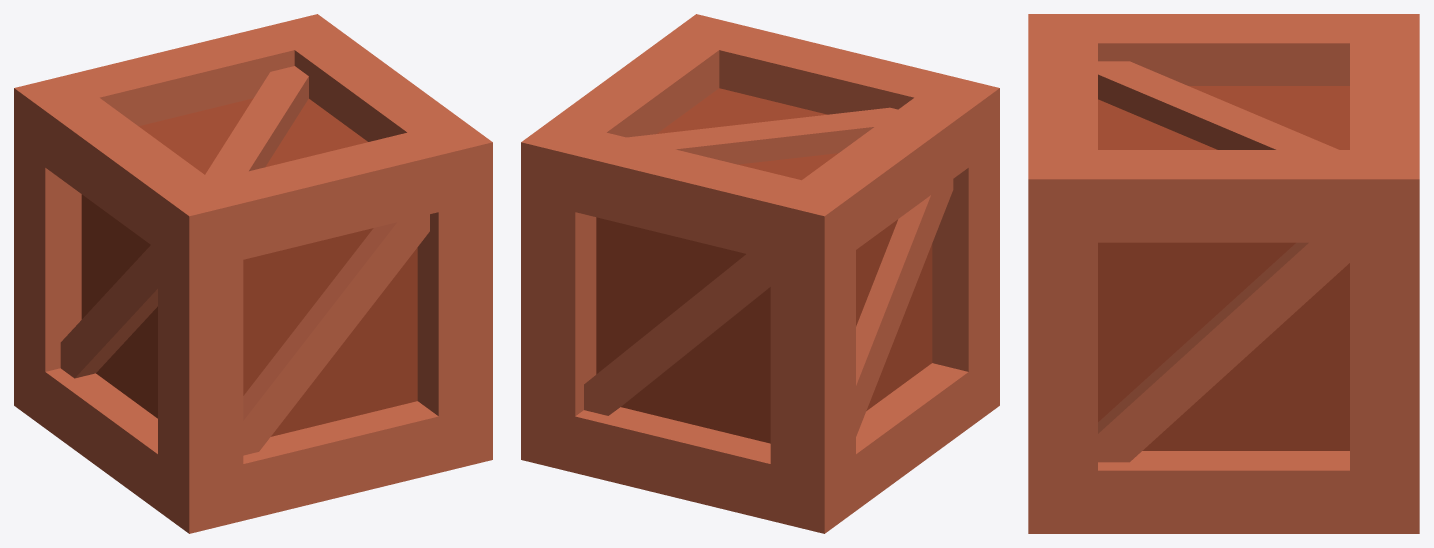
File: crate.glb
The picture shows the model from 3 angles, left to right: view 1: azimuth 30°, elevation 25°; view 2: azimuth 150°, elevation 25°; view 3: azimuth 270°, elevation 25°; orthographic projection. The views are drawn at different scales.
Parts seen in each view (by area): view 1: mergedBlocks(Clone); view 2: mergedBlocks(Clone); view 3: mergedBlocks(Clone).
Part boxes in pixels (x1=…): mergedBlocks(Clone): x1=14, y1=14, x2=492, y2=533; mergedBlocks(Clone): x1=521, y1=14, x2=999, y2=533; mergedBlocks(Clone): x1=1028, y1=14, x2=1419, y2=533.
Bounding box in the file's own units: 2.7 × 2.7 × 2.7.
